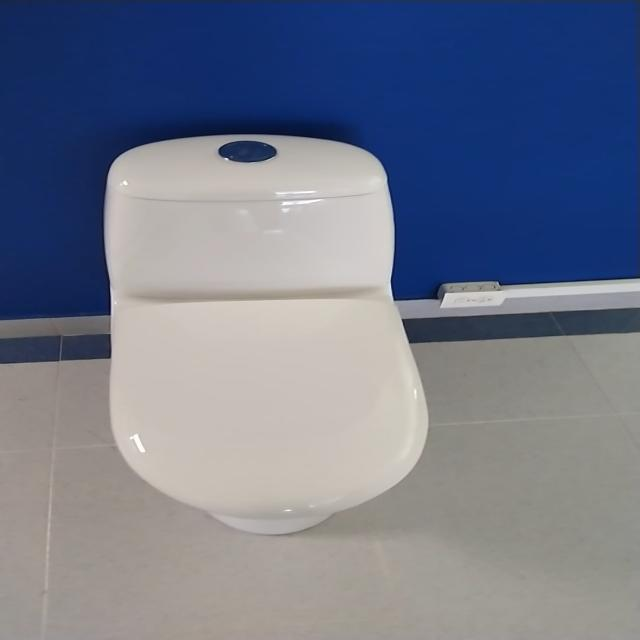toilet: (98, 127, 436, 540)
